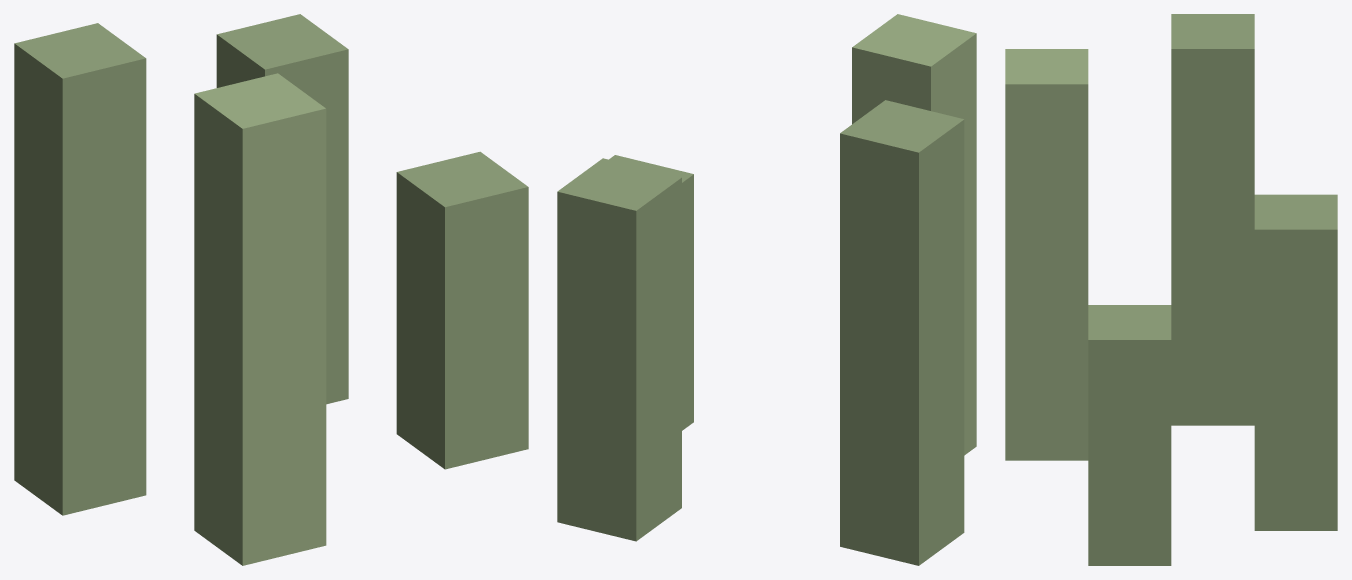
File: acedera_de_altura_01.glb
3 renders of one model, left to right at view 1: azimuth 30°, elevation 25°; view 2: azimuth 150°, elevation 25°; view 3: azimuth 270°, elevation 25°, orthographic. The views are drawn at different scales.
Visible parts, largest first — view 1: acedera_de_altura_01; view 2: acedera_de_altura_01; view 3: acedera_de_altura_01.
Boxes of the visible parts, <box> form: acedera_de_altura_01: <box>14,14,528,565</box>; acedera_de_altura_01: <box>557,14,976,565</box>; acedera_de_altura_01: <box>1005,14,1337,565</box>.
Bounding box in the file's own units: 0.5 × 0.5 × 0.4.
